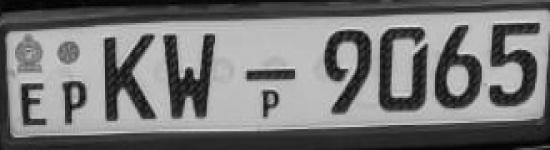-: (244, 63, 298, 89)
0: (376, 22, 430, 115)
5: (484, 15, 543, 114)
6: (431, 21, 486, 117)
9: (321, 27, 376, 121)
E: (19, 78, 53, 131)
K: (98, 29, 162, 124)
P: (54, 74, 90, 126)
W: (163, 29, 225, 121)
